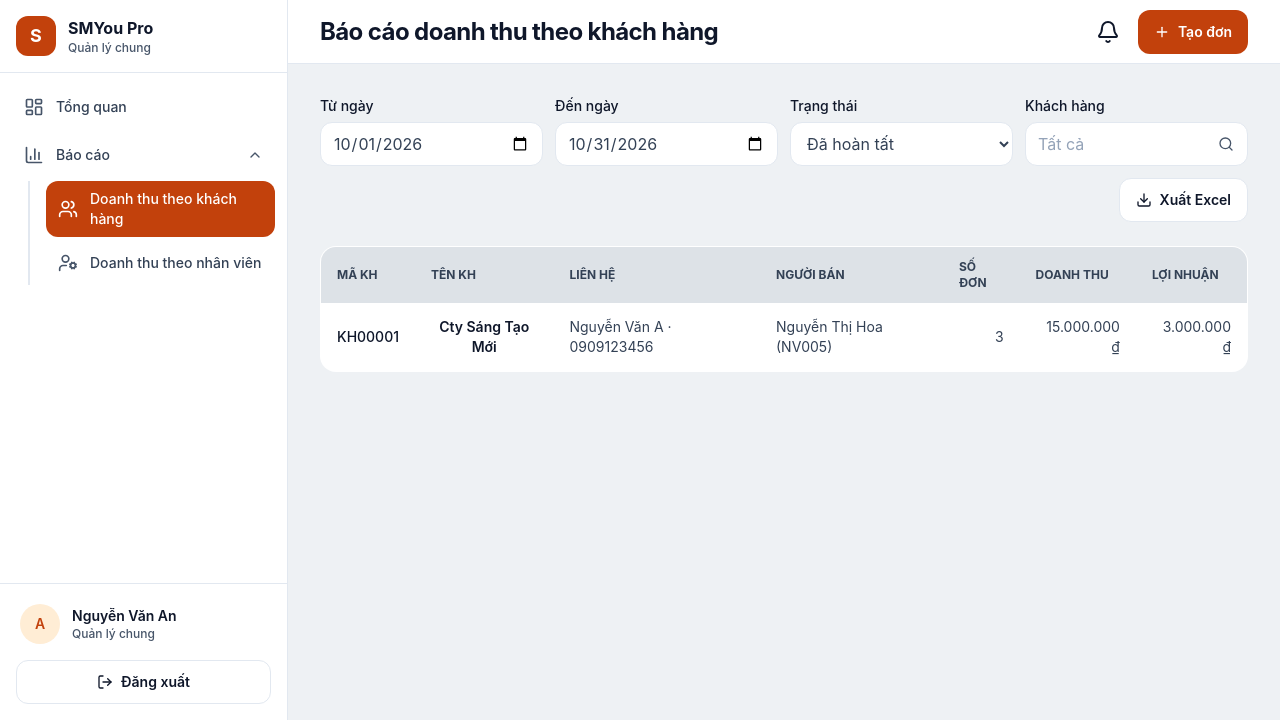
Báo cáo doanh thu theo khách hàng › AC-RPT-071 bấm 1 dòng → drilldown liệt kê DÒNG HÀNG (không phải đơn), kèm seller_id
Click the button "Cty Sáng Tạo Mới" at (484, 337), box [431,315,538,359]
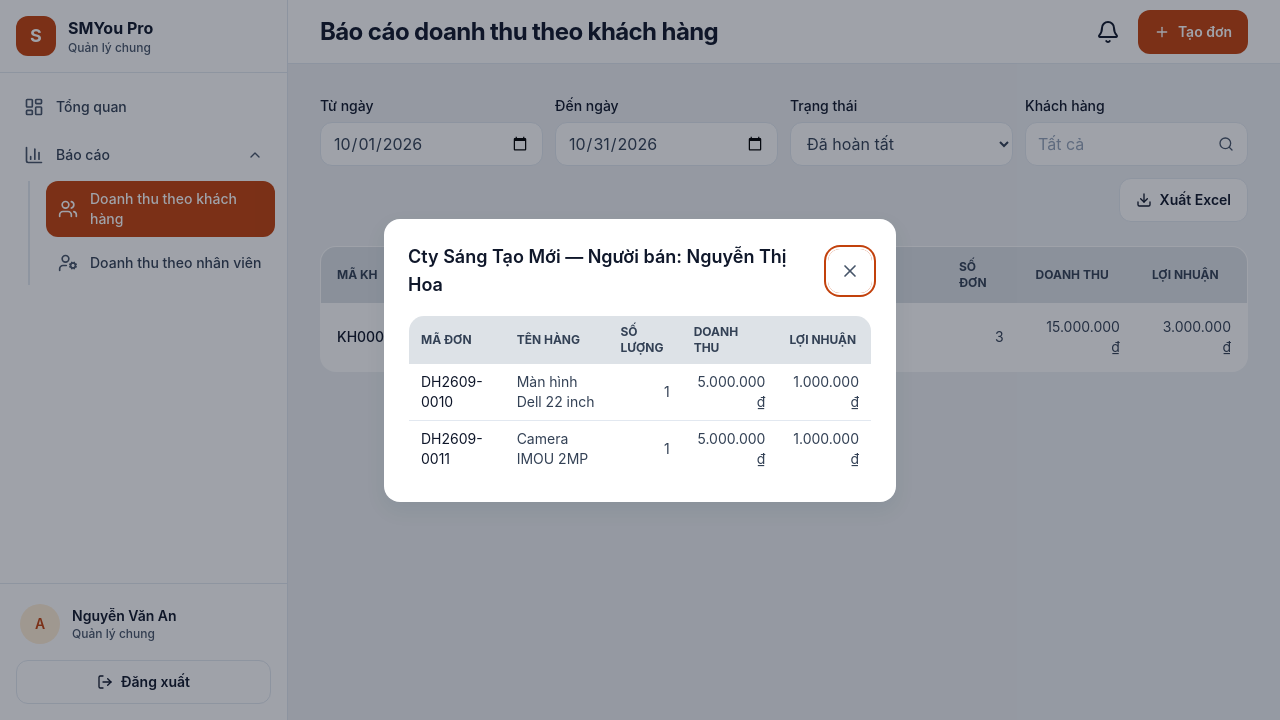
Expected: the dialog "Cty Sáng Tạo Mới — Người bán: Nguyễn Thị Hoa" is shown
Expected: the text "DH2609-0010" is shown, [408,364,505,420]
Expected: the text "Màn hình Dell 22 inch" is shown, [505,364,608,420]
